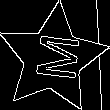M_W: (25, 32, 81, 85)
